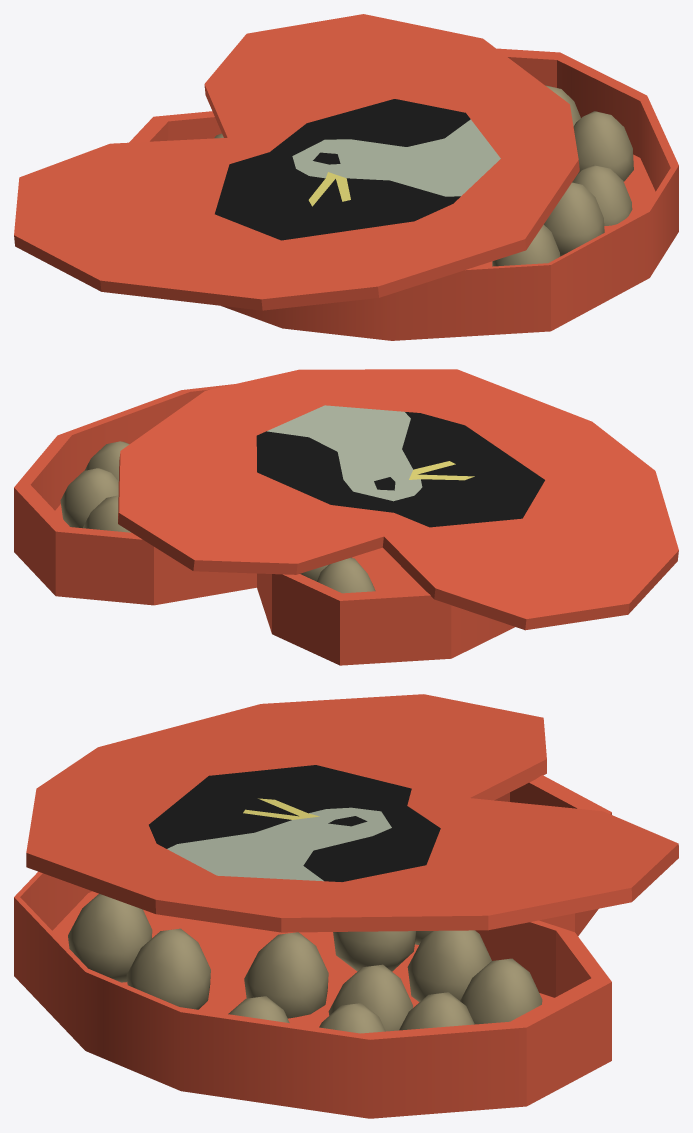
Rendered from sweatys.fbx.
3 views of the same model, one above another, from view 1: azimuth 30°, elevation 25°; view 2: azimuth 150°, elevation 25°; view 3: azimuth 270°, elevation 25° (orthographic). The views are drawn at different scales.
Parts seen in each view (by area): view 1: Cube.001, Cube, Icosphere.008, Icosphere.006, Icosphere.007, Icosphere.011; view 2: Cube.001, Cube, Icosphere.005, Icosphere.009, Icosphere.002, Icosphere.008; view 3: Cube.001, Cube, Icosphere.003, Icosphere.011, Icosphere.006, Icosphere.001, Icosphere.002, Icosphere.004, Icosphere, Icosphere.005, Icosphere.008, Icosphere.007.
Boxes of the visible parts, left/top/right/bottom form: Cube.001: left=14, top=14, right=579, bottom=310; Cube: left=129, top=48, right=678, bottom=340; Icosphere.008: left=573, top=111, right=633, bottom=181; Icosphere.006: left=544, top=182, right=604, bottom=256; Icosphere.007: left=572, top=165, right=632, bottom=225; Icosphere.011: left=492, top=224, right=559, bottom=266; Cube.001: left=118, top=369, right=678, bottom=630; Cube: left=14, top=384, right=514, bottom=665; Icosphere.005: left=60, top=468, right=118, bottom=528; Icosphere.009: left=317, top=558, right=375, bottom=593; Icosphere.002: left=83, top=495, right=130, bottom=532; Icosphere.008: left=84, top=441, right=129, bottom=481; Cube.001: left=26, top=694, right=678, bottom=932; Cube: left=14, top=775, right=611, bottom=1118; Icosphere.003: left=244, top=932, right=328, bottom=1018; Icosphere.011: left=68, top=893, right=152, bottom=982; Icosphere.006: left=126, top=928, right=210, bottom=1009; Icosphere.001: left=407, top=930, right=491, bottom=1002; Icosphere.002: left=460, top=958, right=542, bottom=1024; Icosphere.004: left=328, top=964, right=413, bottom=1031; Icosphere: left=333, top=931, right=416, bottom=971; Icosphere.005: left=399, top=992, right=474, bottom=1030; Icosphere.008: left=319, top=1003, right=385, bottom=1033; Icosphere.007: left=228, top=996, right=289, bottom=1022.
Size of the model in its own units: 1129 by 242 by 895.
